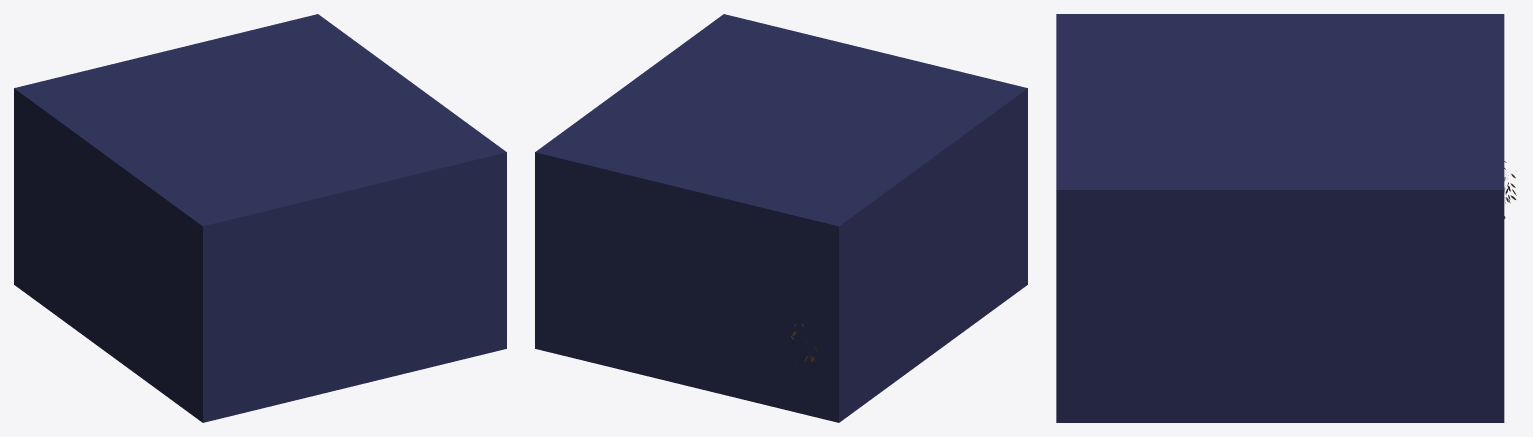
Rendered from Room final version after flipping.fbx.
The picture shows the model from 3 angles, left to right: view 1: azimuth 30°, elevation 25°; view 2: azimuth 150°, elevation 25°; view 3: azimuth 270°, elevation 25°; orthographic projection. The views are drawn at different scales.
Visible parts, largest first — view 1: Cube; view 2: Cube; view 3: Cube.
Part boxes in pixels (bbox=[...]): Cube: bbox=[14, 14, 506, 422]; Cube: bbox=[535, 14, 1027, 422]; Cube: bbox=[1056, 14, 1504, 422].
Size of the model in its own units: 1124 by 694 by 1249.
